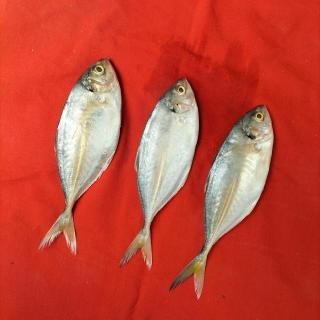Ikan: (168, 105, 280, 299), (38, 54, 126, 256), (119, 76, 204, 272)
